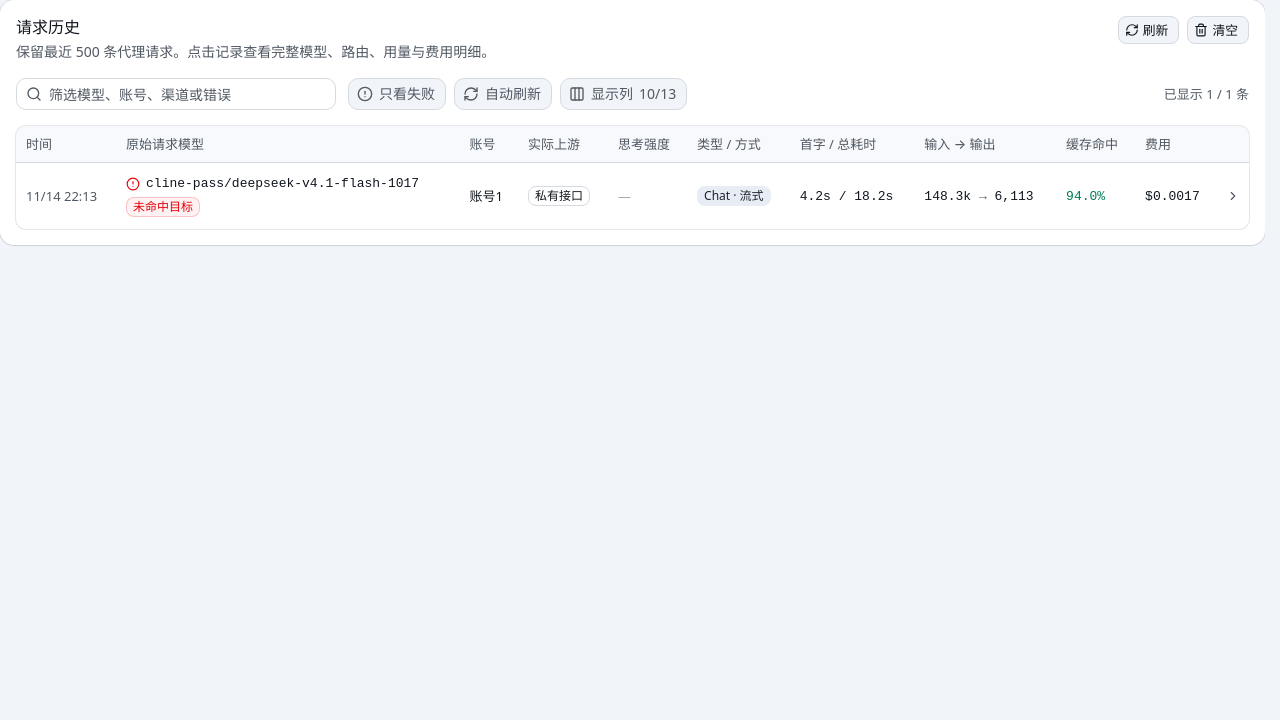
additional upstream error information stays readable in the details
expect the text "目标 deepseek，实际 openai-compatible-private；上游返回额度不足" is not shown: met
Click the button named "查看请求详情": (1233, 196) [1221, 184, 1245, 208]
(page scrolled)
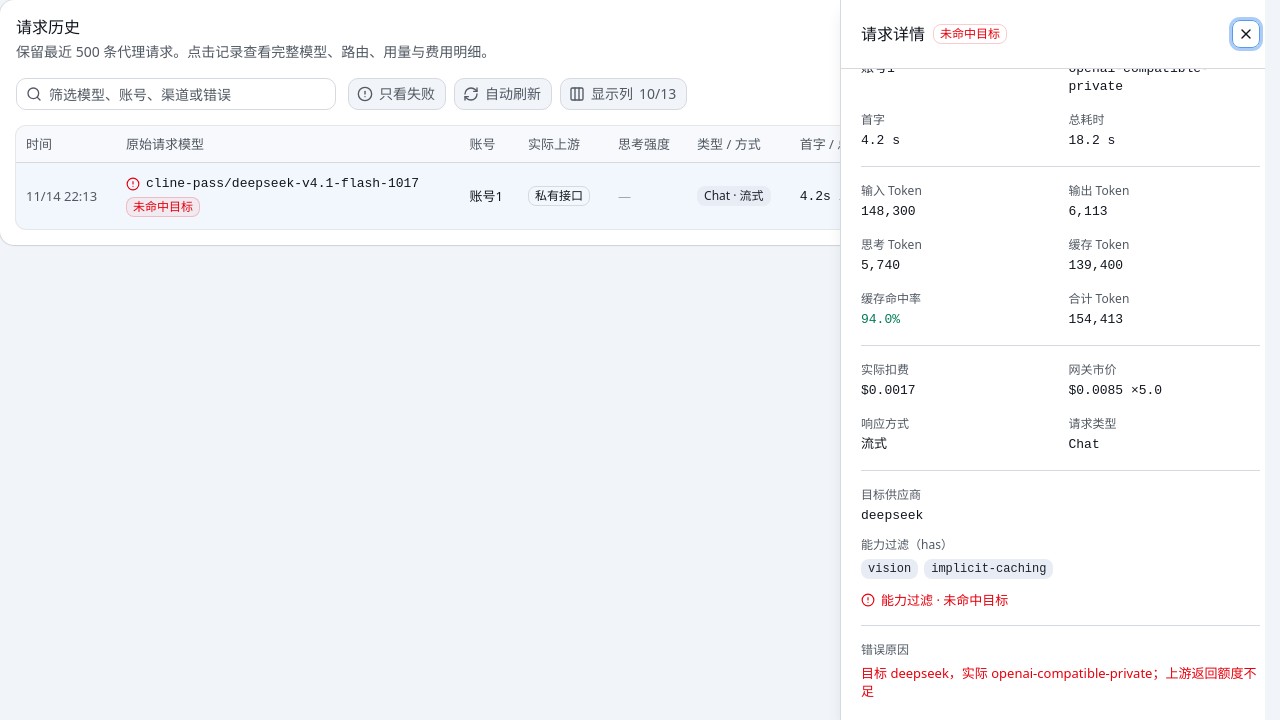
expect the text "目标 deepseek，实际 openai-compatible-private；上游返回额度不足" is shown: met, box [861, 664, 1260, 700]
